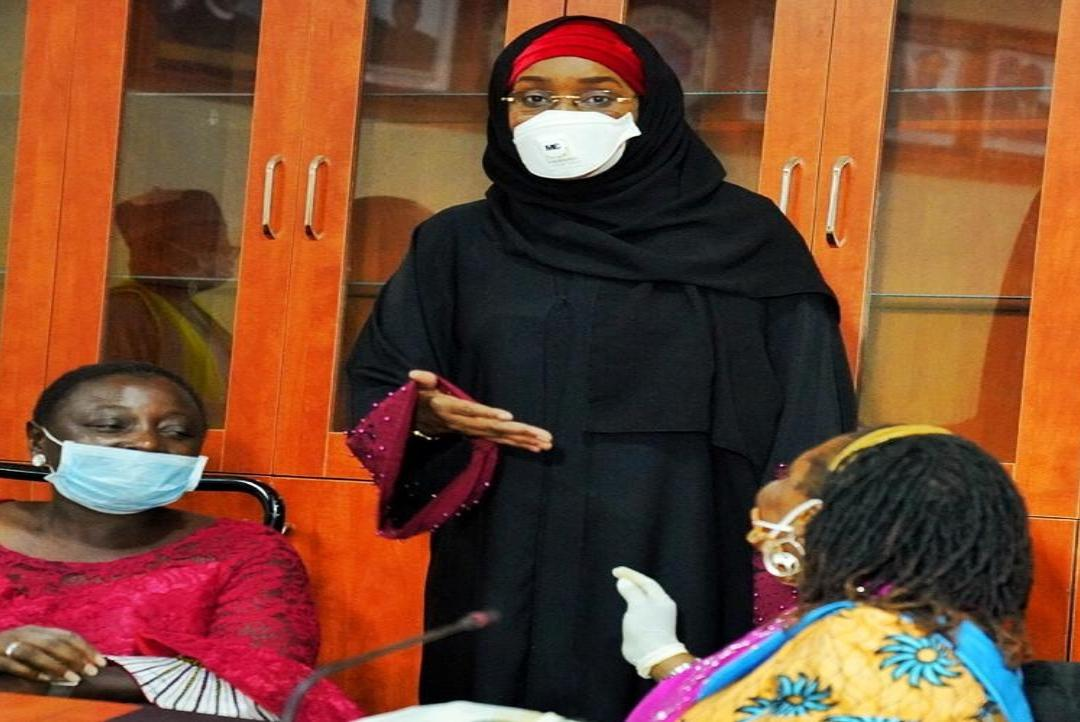mask_weared_incorrect: (26, 364, 210, 517)
